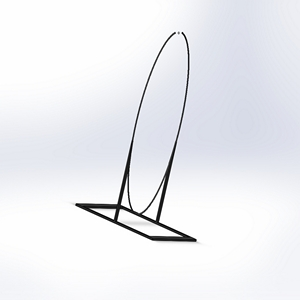circle: (74, 28, 200, 242)
